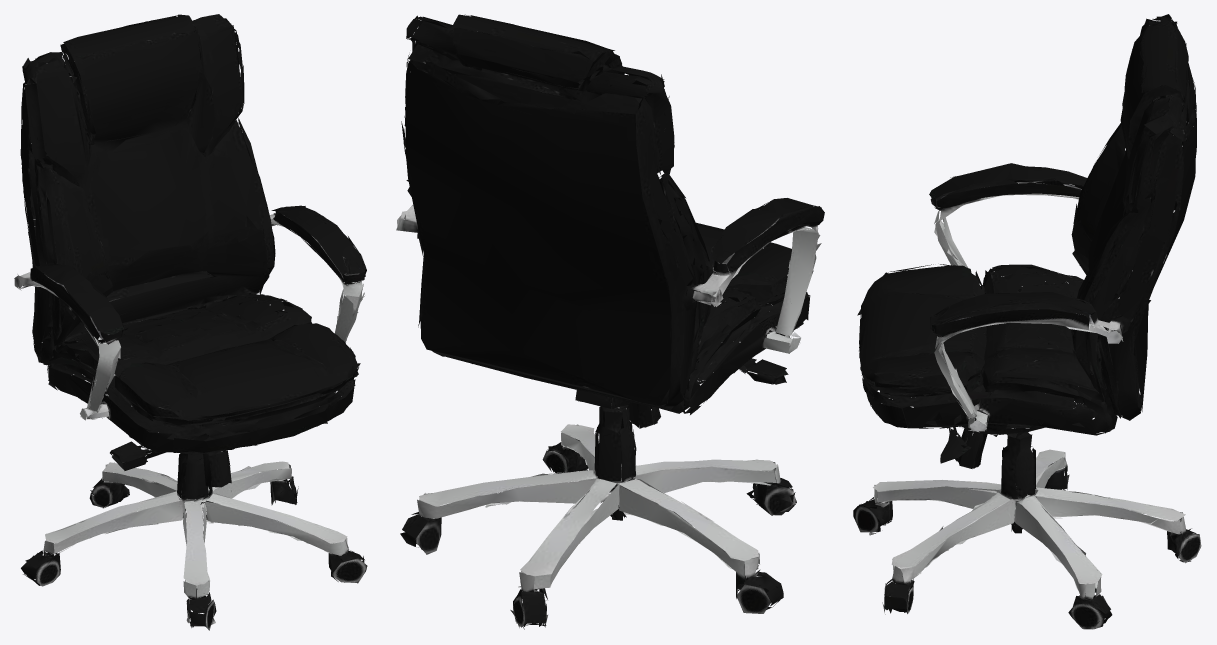
Rendered from executive-chair.glb.
The picture shows the model from 3 angles, left to right: view 1: azimuth 30°, elevation 25°; view 2: azimuth 150°, elevation 25°; view 3: azimuth 270°, elevation 25°; orthographic projection. The views are drawn at different scales.
Visible parts, largest first — view 1: 02-executive-chair; view 2: 02-executive-chair; view 3: 02-executive-chair.
Part boxes in pixels (left/top/right/bottom): 02-executive-chair: left=14, top=14, right=367, bottom=630; 02-executive-chair: left=396, top=14, right=824, bottom=629; 02-executive-chair: left=853, top=14, right=1201, bottom=629.
Bounding box in the file's own units: 0.6524 × 1.04 × 0.646.
Materials: 1 (1 with a texture image).
